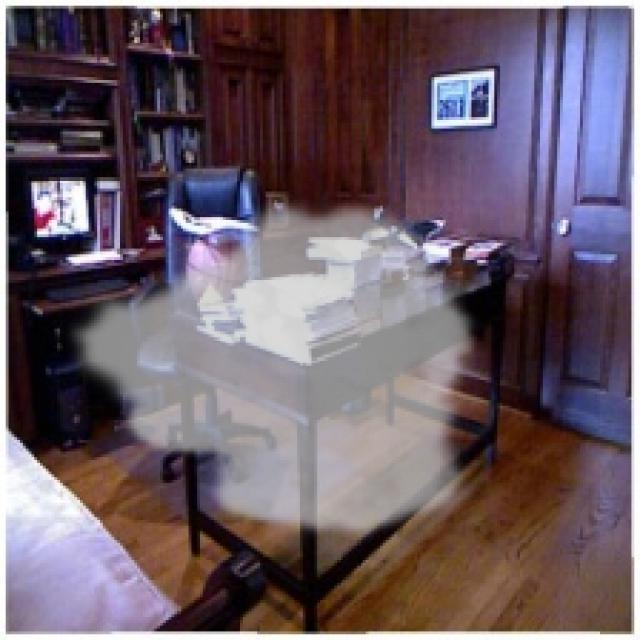smoke: (63, 191, 480, 540)
